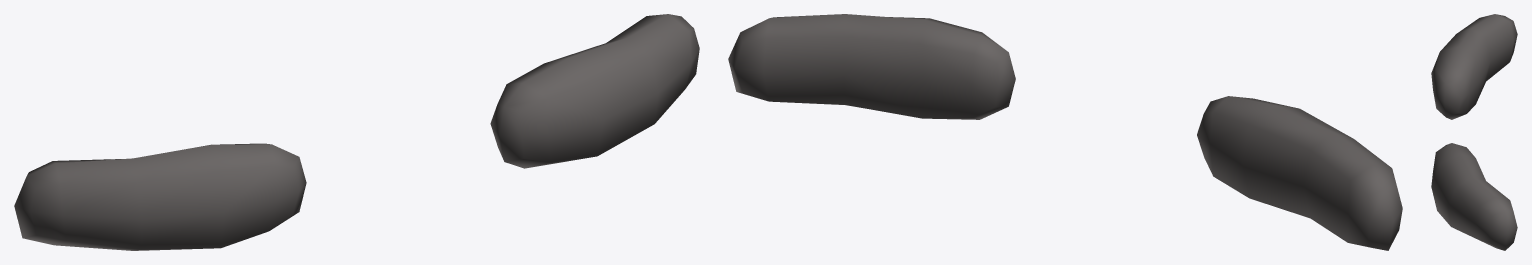
Rendered from Eyebrows_01_04.fbx.
3 views of the same model, side by side, from view 1: azimuth 30°, elevation 25°; view 2: azimuth 150°, elevation 25°; view 3: azimuth 270°, elevation 25° (orthographic). The views are drawn at different scales.
Parts seen in each view (by area): view 1: Eyebrows_01_04; view 2: Eyebrows_01_04; view 3: Eyebrows_01_04.
Part boxes in pixels (x1,y1,x2,y2): Eyebrows_01_04: (14, 14, 699, 250); Eyebrows_01_04: (728, 14, 1402, 250); Eyebrows_01_04: (1431, 14, 1517, 250).
Bounding box in the file's own units: 18.54 × 2.63 × 3.34.
